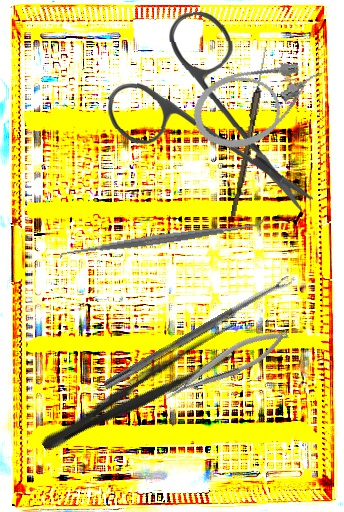Cannula: (185, 49, 336, 159)
Dressing Forceps: (34, 318, 250, 464)
Iris Scissors: (104, 8, 314, 218)
Needle Holder: (157, 322, 294, 406)
Spatula Surgical: (57, 212, 269, 265)
Surgical Spoon: (102, 275, 294, 391), (230, 46, 270, 217)
